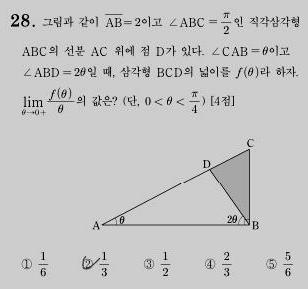choice: (81, 255, 97, 271)
not-choice: (265, 256, 278, 271), (142, 256, 155, 270), (19, 257, 32, 270), (203, 257, 215, 271)
